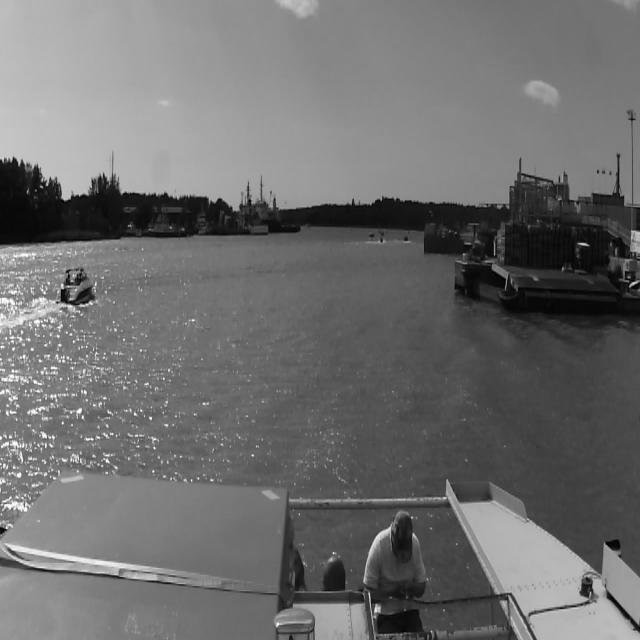ship: (55, 262, 94, 308), (236, 180, 268, 236), (254, 173, 283, 223), (368, 229, 376, 243), (377, 224, 387, 235), (403, 234, 409, 242), (379, 234, 383, 244)
